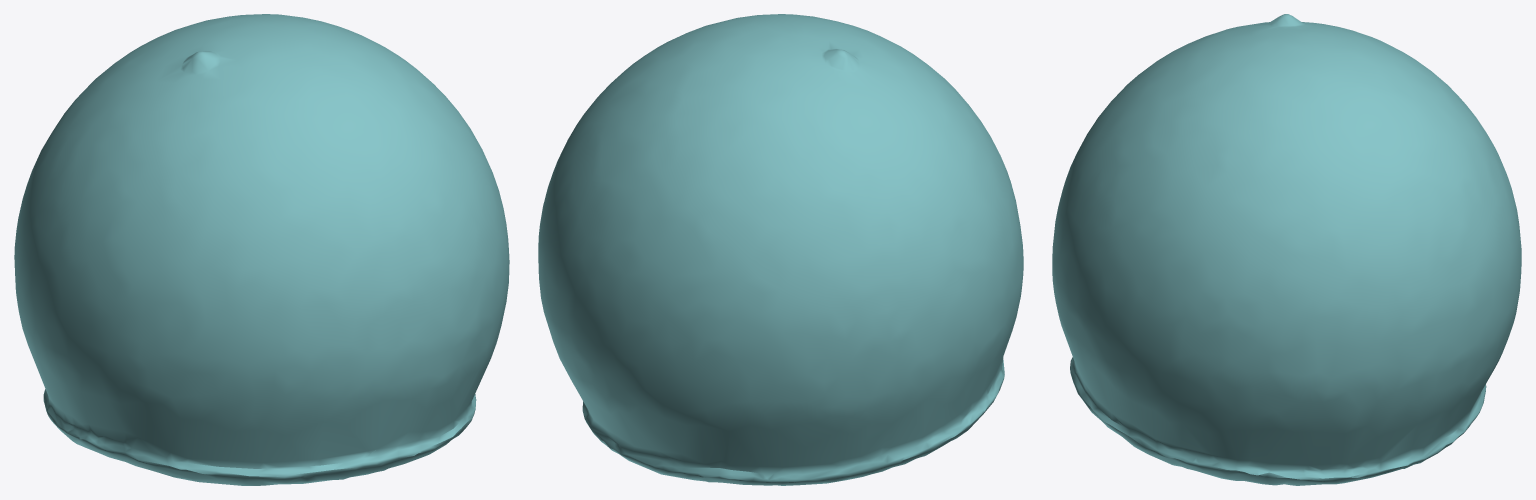
3 renders of one model, left to right at view 1: azimuth 30°, elevation 25°; view 2: azimuth 150°, elevation 25°; view 3: azimuth 270°, elevation 25°, orthographic. The views are drawn at different scales.
Visible parts, largest first — view 1: 右侧玻璃体; view 2: 右侧玻璃体; view 3: 右侧玻璃体.
Boxes of the visible parts, <box> form: 右侧玻璃体: <box>14,14,509,485</box>; 右侧玻璃体: <box>538,14,1023,485</box>; 右侧玻璃体: <box>1052,14,1521,485</box>.
Bounding box in the file's own units: 0.03 × 0.0261 × 0.0299.
